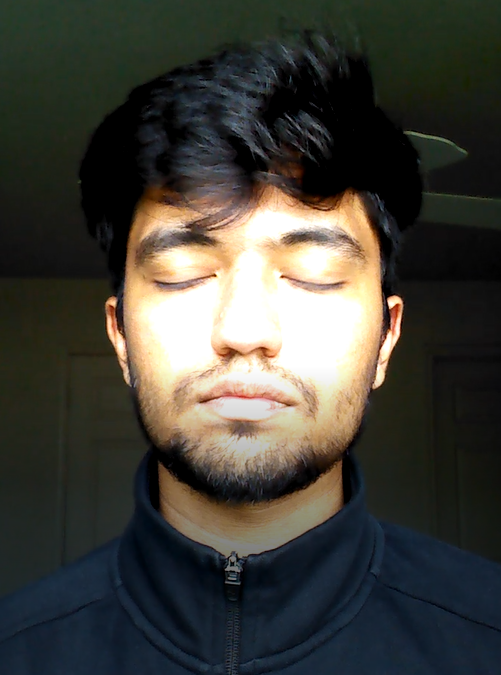Sleeping: (126, 220, 377, 307)
